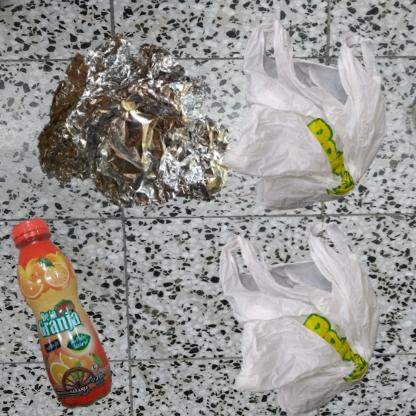aluminio: (10, 10, 256, 253)
bolsa: (213, 10, 415, 243), (213, 213, 398, 416)
botella: (10, 213, 119, 416)
